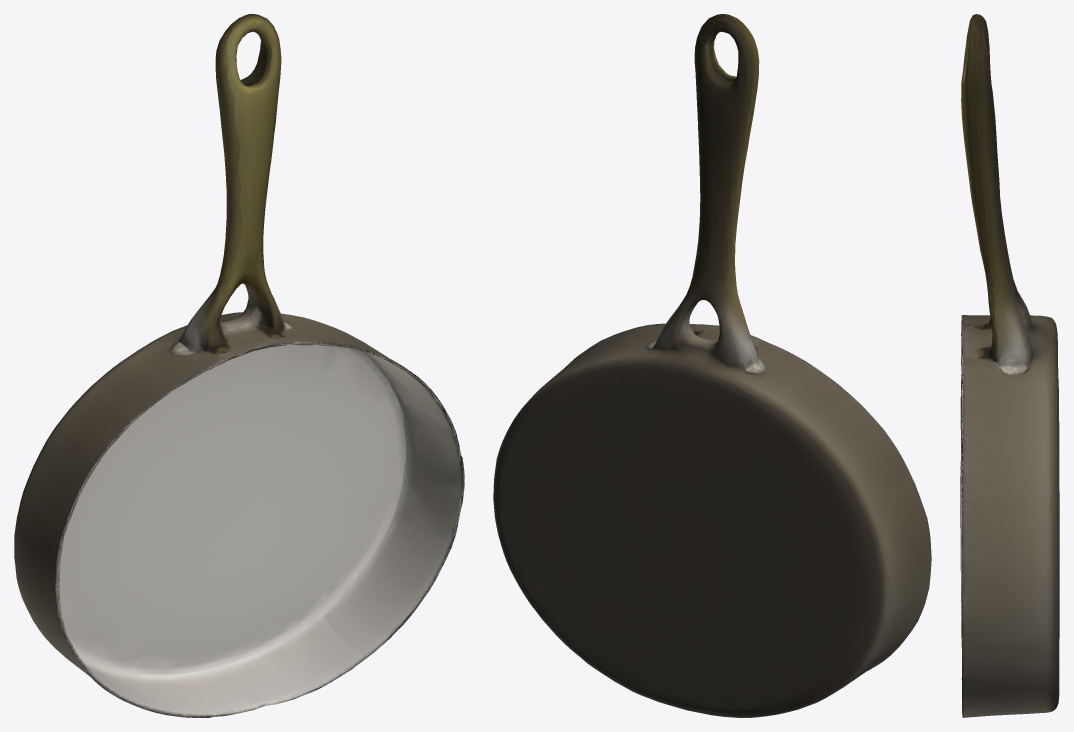
The model's file is pan.obj.
3 views of the same model, side by side, from view 1: azimuth 30°, elevation 25°; view 2: azimuth 150°, elevation 25°; view 3: azimuth 270°, elevation 25° (orthographic). The views are drawn at different scales.
Bounding box in the file's own units: 0.2886 × 0.4641 × 0.0622.
Materials: 1 (1 with a texture image).
